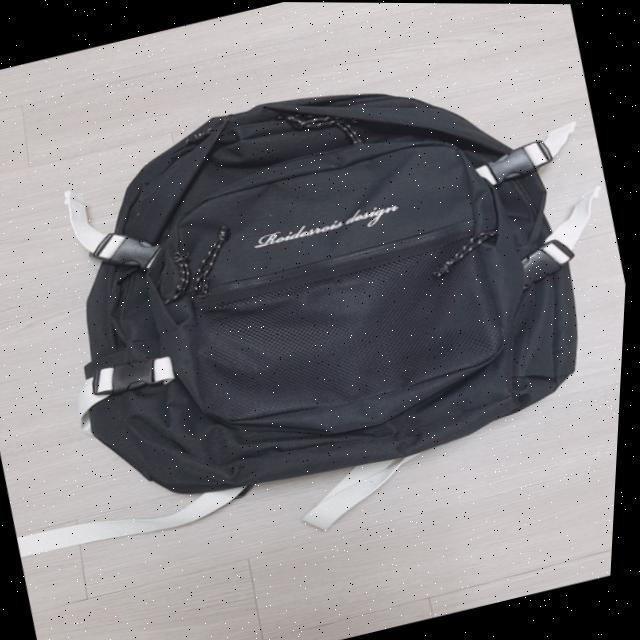backpack: (0, 6, 640, 558)
